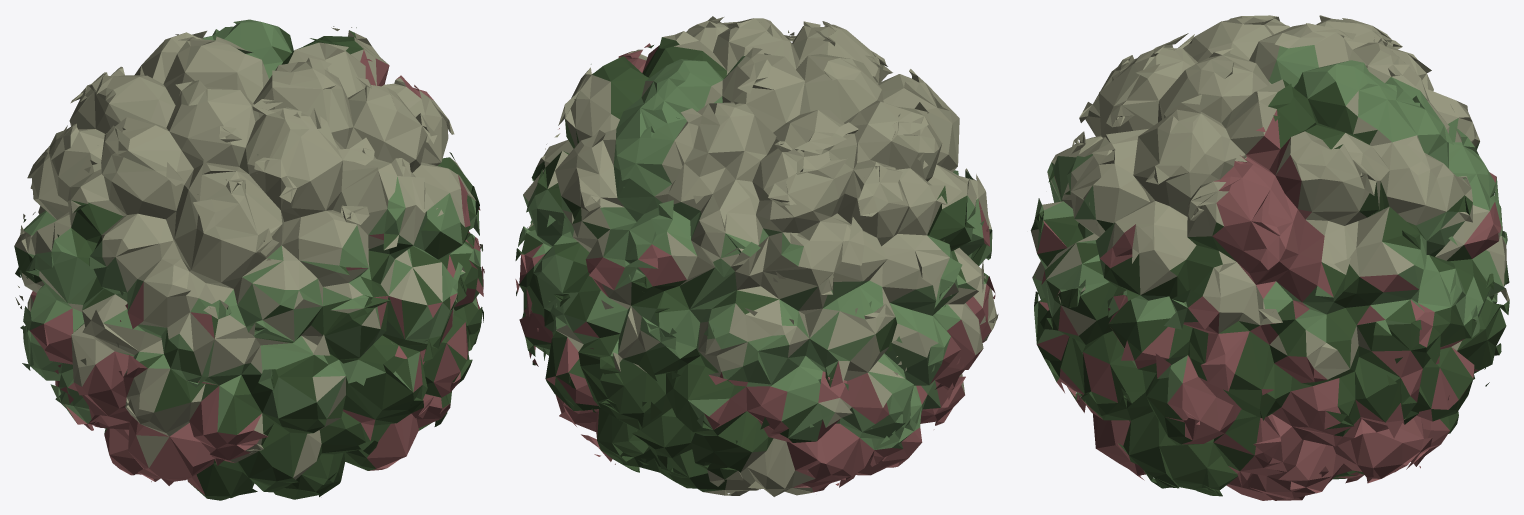
The model's file is bush_flower.glb.
3 renders of one model, left to right at view 1: azimuth 30°, elevation 25°; view 2: azimuth 150°, elevation 25°; view 3: azimuth 270°, elevation 25°, orthographic. The views are drawn at different scales.
Parts seen in each view (by area): view 1: geometry_0; view 2: geometry_0; view 3: geometry_0.
Part boxes in pixels (<box>): geometry_0: <box>14,19,484,500</box>; geometry_0: <box>515,16,998,496</box>; geometry_0: <box>1030,15,1509,500</box>.
Size of the model in its own units: 1.98 by 1.98 by 1.96.
